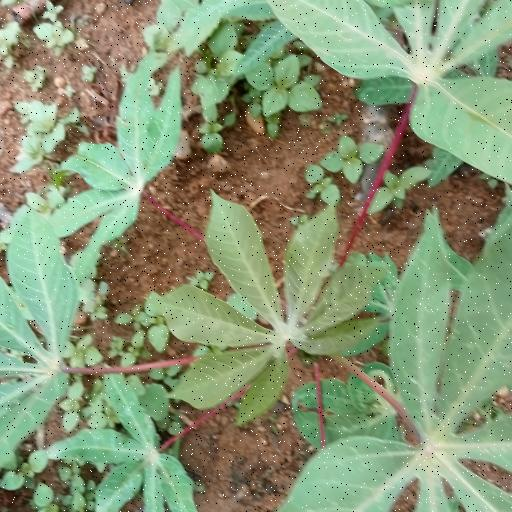Cassava_Mosaic: (163, 196, 397, 416), (0, 202, 88, 472)
